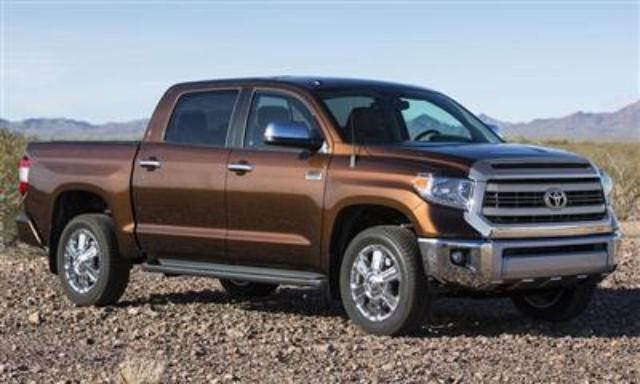pickup-truck: (17, 74, 620, 338)
